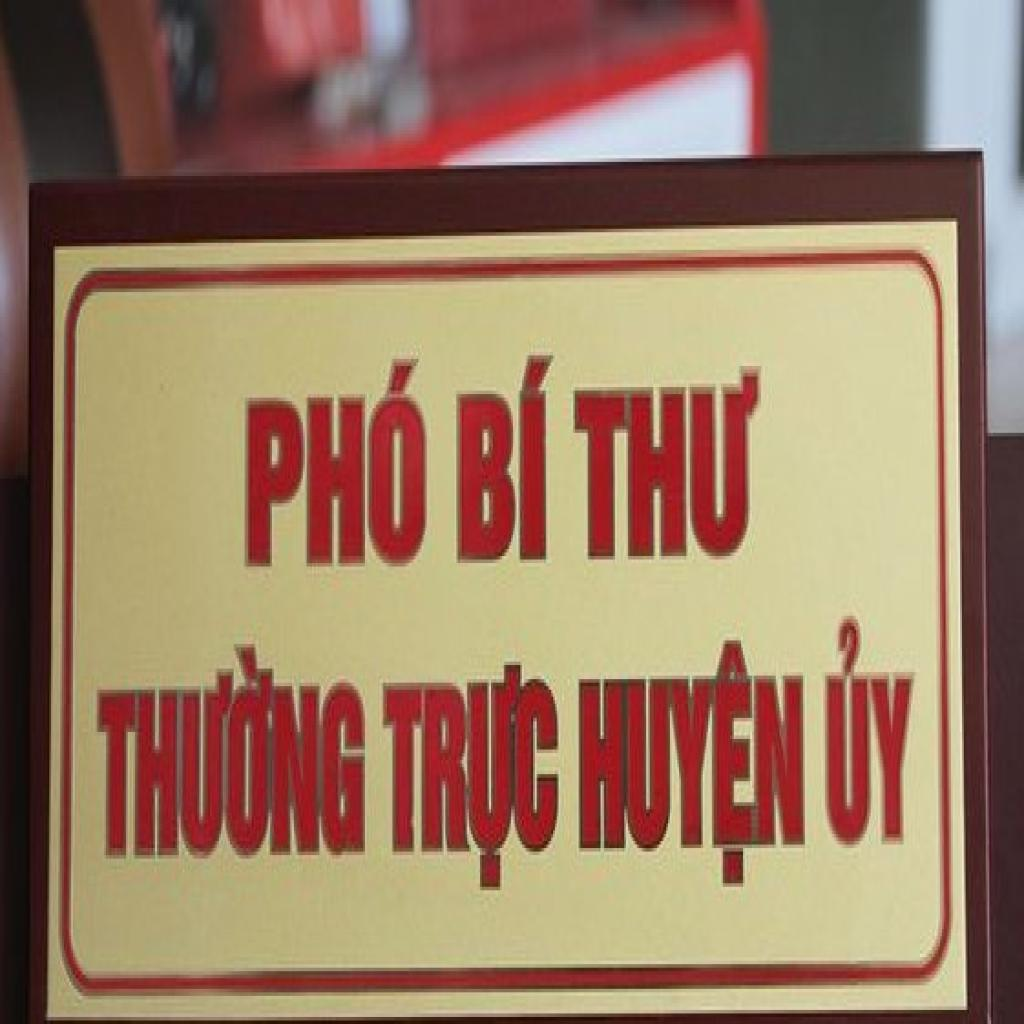text: (90, 634, 374, 870), (575, 634, 810, 898), (241, 344, 436, 580), (380, 654, 564, 898), (570, 355, 766, 570), (451, 341, 558, 577)
